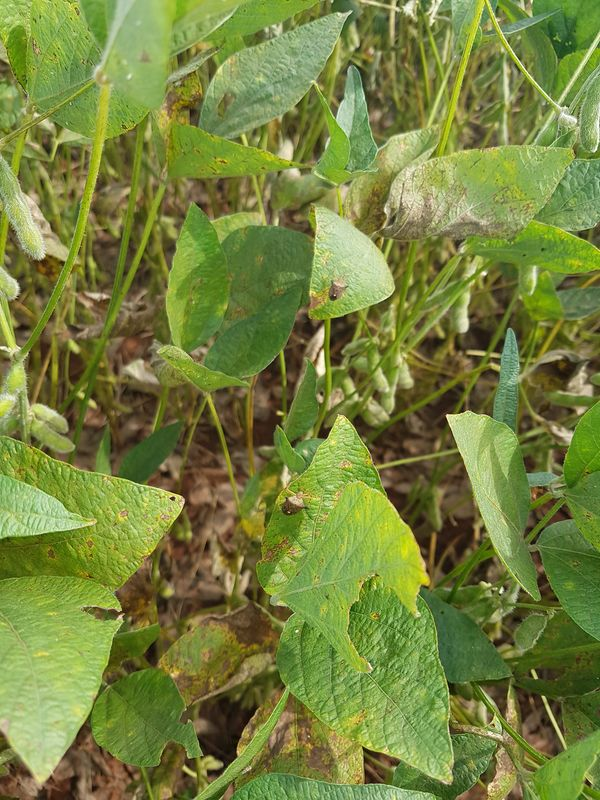Euschistus_heros_adulto: (276, 483, 316, 523), (323, 274, 353, 306)
